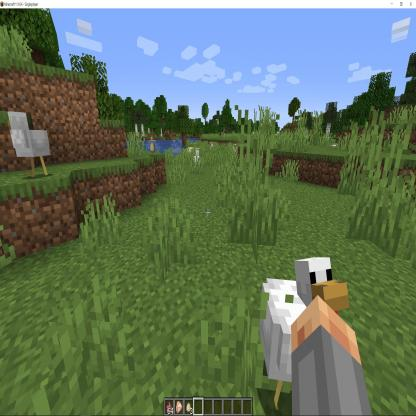minecraft-pigs: (198, 155, 230, 222)
